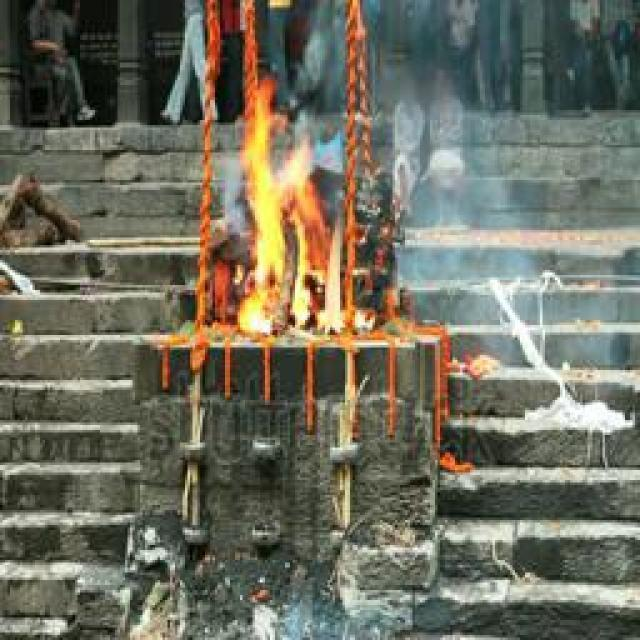Fire: (242, 82, 348, 336)
